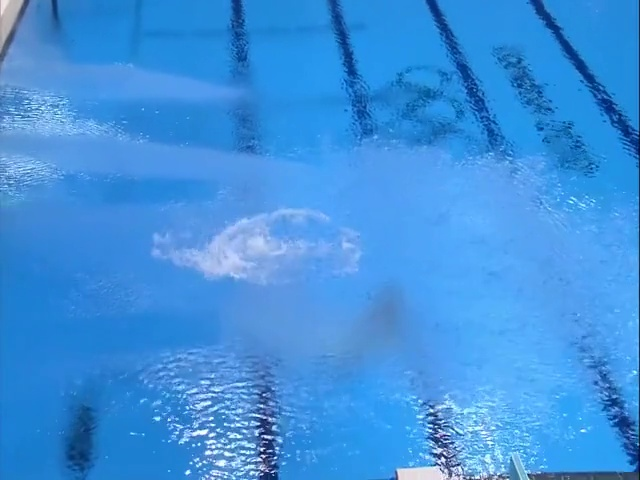splash: (205, 216, 289, 286)
